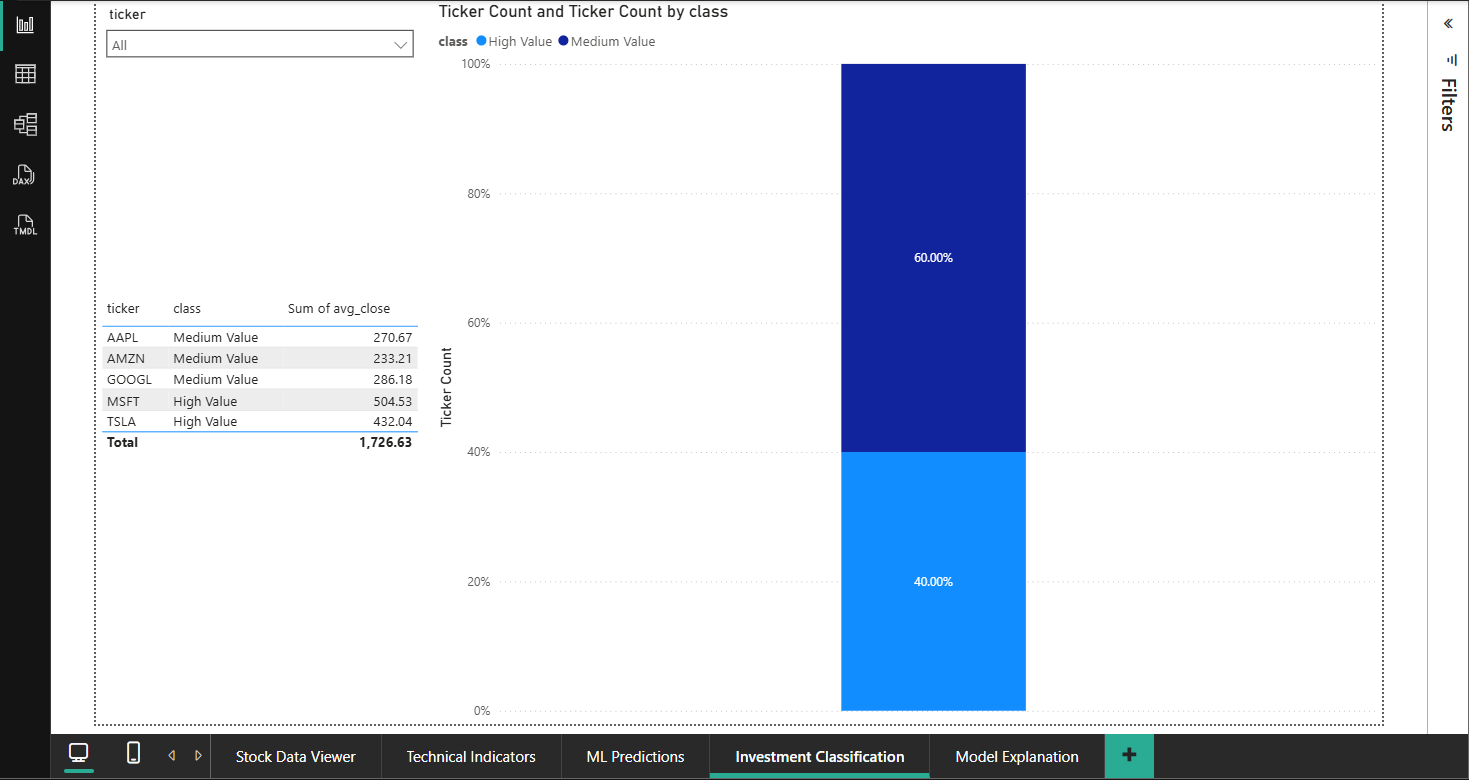

What the dashboard file says about the page in this screenshot:
{"tool":"powerbi","page":{"name":"Investment Classification","canvas":[1280,720],"ordinal":3},"visuals":[{"type":"slicer","fields":{"Values":["investment_classification.ticker"]},"box":[0,0,325.9,289.8],"z":0},{"type":"tableEx","fields":{"Values":["investment_classification.ticker","investment_classification.class","Sum(investment_classification.avg_close)"]},"box":[0,289.8,325.9,430.4],"z":1000},{"type":"hundredPercentStackedColumnChart","fields":{"Y":["select","investment_classification.Ticker Count "],"Series":["investment_classification.class"]},"box":[335.9,0,944.2,720.3],"z":2000}]}

Visuals, with their boxes on the page's 1280x720 design canvas (x1, y1, x2, y2). These are canvas units, not pixel positions in the 1469x780 screenshot, which may show the page scaled, cropped or inside an application window:
slicer - investment_classification.ticker: box(0, 0, 326, 290)
tableEx - investment_classification.ticker x investment_classification.class: box(0, 290, 326, 720)
hundredPercentStackedColumnChart - select x investment_classification.Ticker Count : box(336, 0, 1280, 720)
